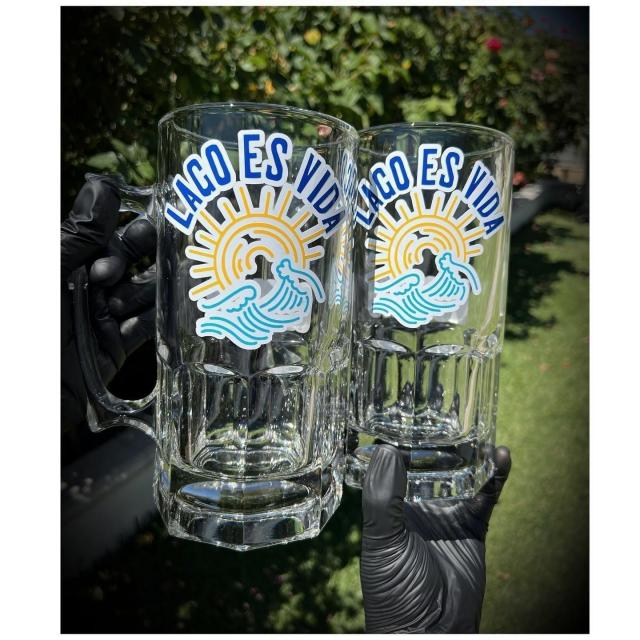glass-mug: (65, 97, 362, 558), (329, 116, 526, 454)
